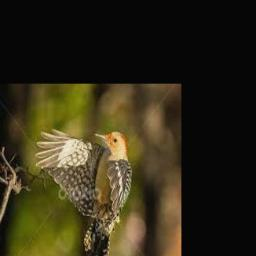Woodpecker: (35, 129, 133, 256)
